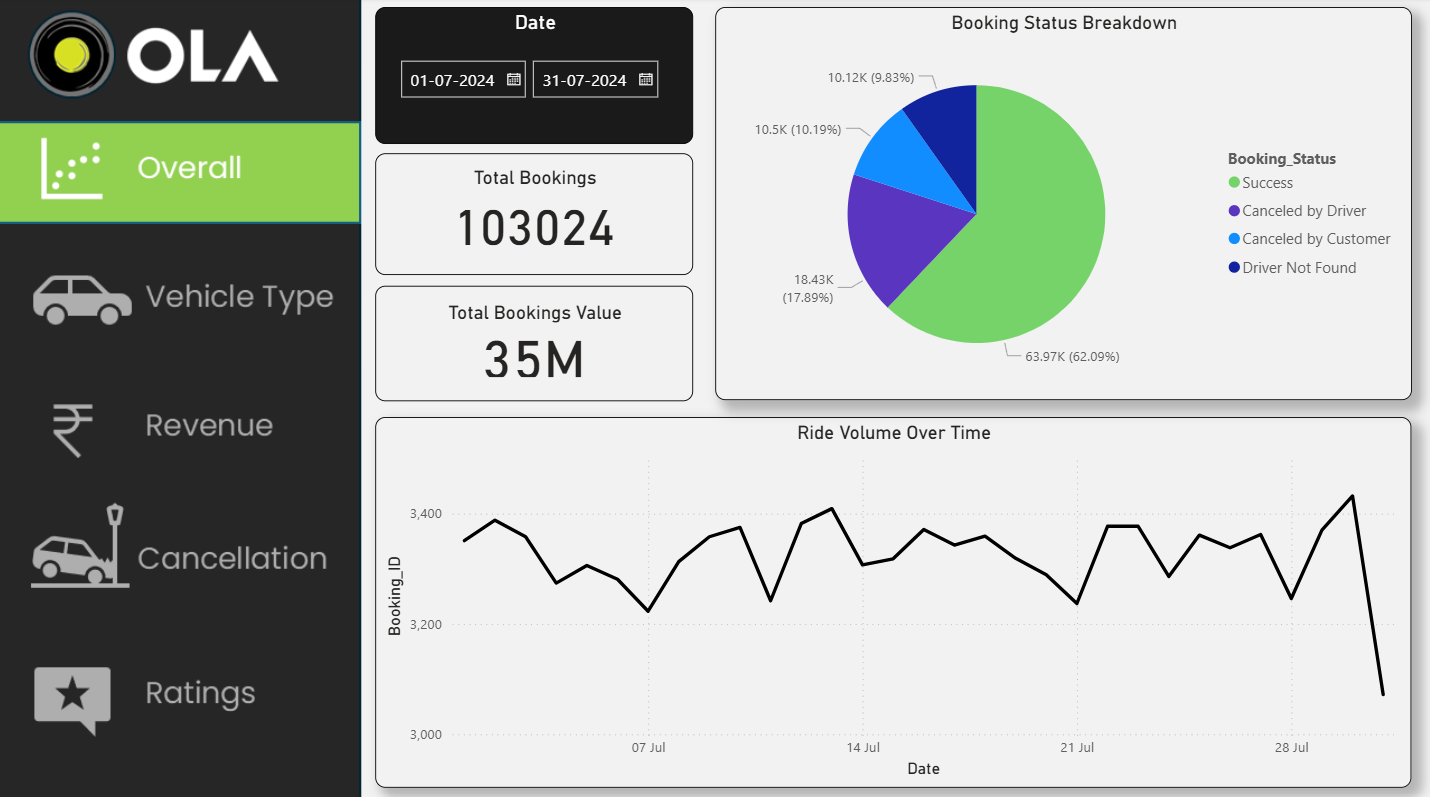

This screenshot's page, from the dashboard's own definition file:
{"tool":"powerbi","page":{"name":"Overall","canvas":[1280,720],"ordinal":0},"visuals":[{"type":"lineChart","title":"Ride Volume Over Time","fields":{"Y":["CountNonNull(July.Booking_ID)"],"Category":["July.Date"]},"box":[336,375.6,925.6,331.4],"z":0},{"type":"pieChart","title":"Booking Status Breakdown","fields":{"Y":["CountNonNull(July.Booking_Status)"],"Category":["July.Booking_Status"]},"box":[639.5,9.3,622.1,351.2],"z":1000},{"type":"actionButton","box":[0,200,325.6,124.4],"z":2000},{"type":"actionButton","box":[0,324.4,325.6,118.6],"z":3000},{"type":"actionButton","box":[0,443,325.6,131.4],"z":4000},{"type":"actionButton","box":[0,574.4,325.6,145.3],"z":5000},{"type":"slicer","title":"Date","fields":{"Values":["July.Date"]},"box":[336,9.3,283.7,122.1],"z":6000},{"type":"card","title":"Total Bookings","fields":{"Values":["Count(July.Booking_ID)"]},"box":[336.2,140,284,108.4],"z":7000},{"type":"card","title":"Total Bookings Value","fields":{"Values":["Sum(July.Booking_Value)"]},"box":[336.2,258,284,102.9],"z":8000}]}

Visuals, with their boxes on the page's 1280x720 design canvas (x1, y1, x2, y2). These are canvas units, not pixel positions in the 1430x797 screenshot, which may show the page scaled, cropped or inside an application window:
"Ride Volume Over Time" lineChart: <box>336,376,1262,707</box>
"Booking Status Breakdown" pieChart: <box>640,9,1262,360</box>
actionButton: <box>0,200,326,324</box>
actionButton: <box>0,324,326,443</box>
actionButton: <box>0,443,326,574</box>
actionButton: <box>0,574,326,720</box>
"Date" slicer: <box>336,9,620,131</box>
"Total Bookings" card: <box>336,140,620,248</box>
"Total Bookings Value" card: <box>336,258,620,361</box>
